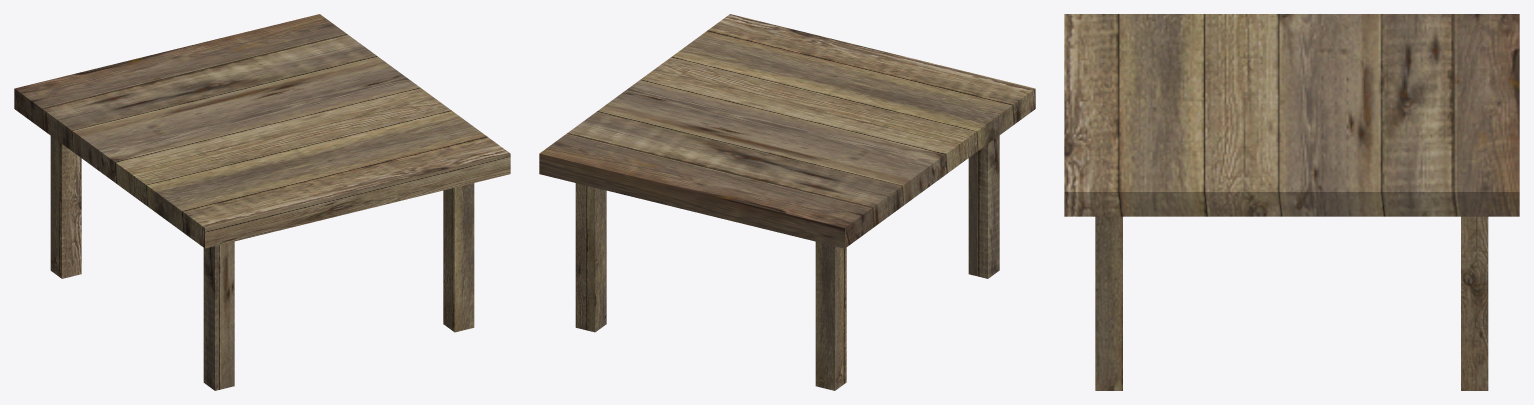
File: table_square.dae
3 renders of one model, left to right at view 1: azimuth 30°, elevation 25°; view 2: azimuth 150°, elevation 25°; view 3: azimuth 270°, elevation 25°, orthographic. The views are drawn at different scales.
Parts seen in each view (by area): view 1: table_square-Pivot; view 2: table_square-Pivot; view 3: table_square-Pivot.
Boxes of the visible parts, <box> form: table_square-Pivot: <box>14,14,510,390</box>; table_square-Pivot: <box>539,14,1035,390</box>; table_square-Pivot: <box>1064,14,1519,390</box>.
Size of the model in its own units: 3.73 by 4.03 by 2.08.
